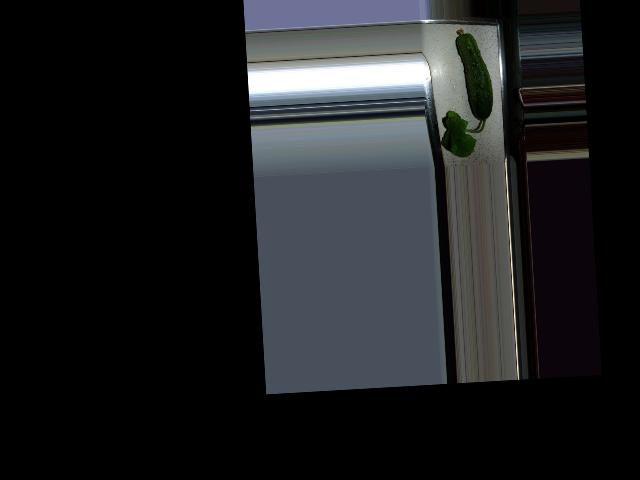cucumber: (455, 27, 494, 122)
